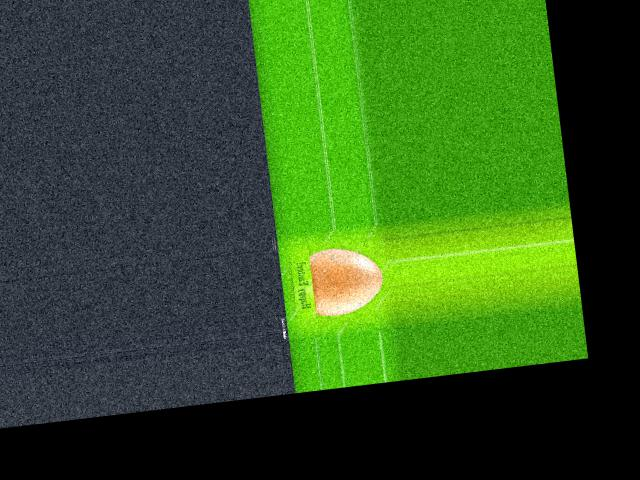egg: (308, 243, 386, 317)
